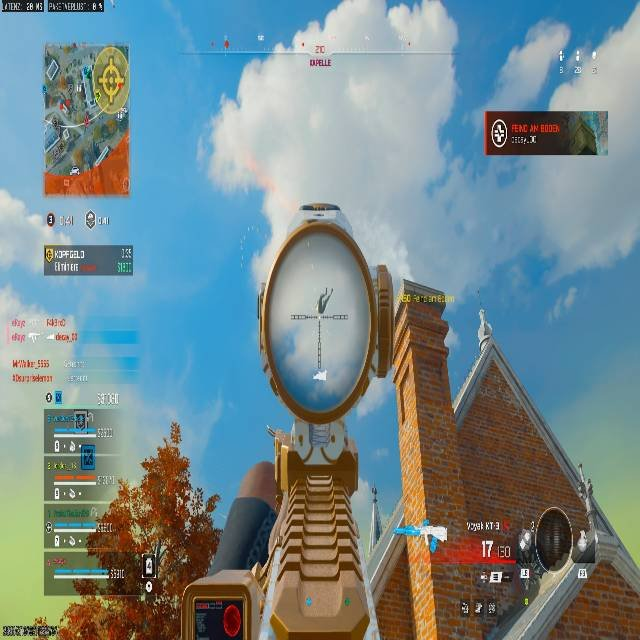head: (531, 506, 572, 567)
player: (517, 506, 602, 593)
